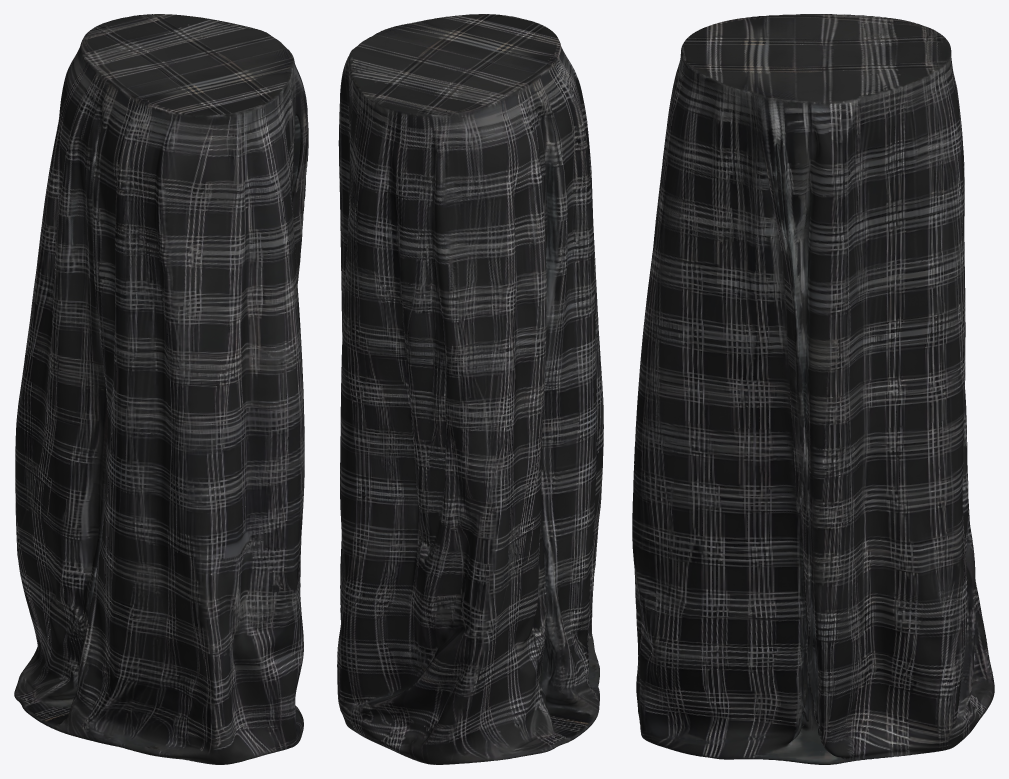
File: tripo_pbr_model_61fd6542-39c9-_19349a03_opt.glb
3 renders of one model, left to right at view 1: azimuth 30°, elevation 25°; view 2: azimuth 150°, elevation 25°; view 3: azimuth 270°, elevation 25°, orthographic. The views are drawn at different scales.
Parts seen in each view (by area): view 1: tripo_node_61fd6542-39c9-4f0f-9d3c-9a8883394301; view 2: tripo_node_61fd6542-39c9-4f0f-9d3c-9a8883394301; view 3: tripo_node_61fd6542-39c9-4f0f-9d3c-9a8883394301.
Part boxes in pixels (left/top/right/bottom): tripo_node_61fd6542-39c9-4f0f-9d3c-9a8883394301: left=14, top=14, right=308, bottom=764; tripo_node_61fd6542-39c9-4f0f-9d3c-9a8883394301: left=337, top=14, right=603, bottom=764; tripo_node_61fd6542-39c9-4f0f-9d3c-9a8883394301: left=632, top=14, right=994, bottom=764.
Bounding box in the file's own units: 0.4099 × 1 × 0.4887.
1 material, 1 textured.
